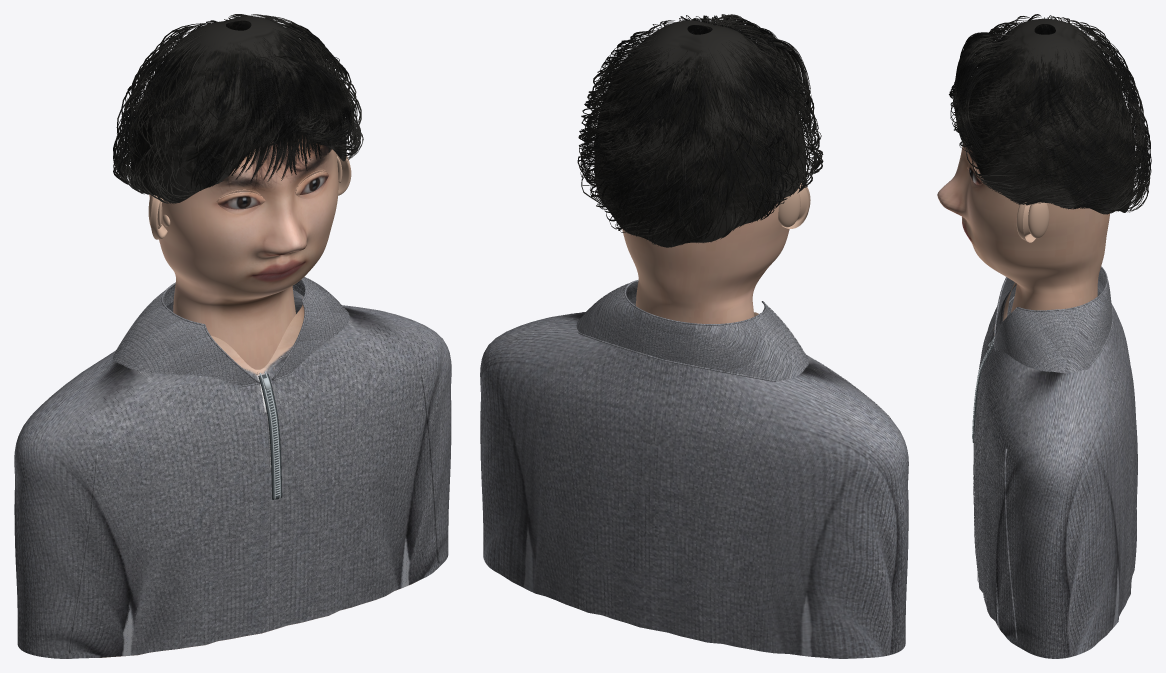
Rendered from avatar.glb.
3 renders of one model, left to right at view 1: azimuth 30°, elevation 25°; view 2: azimuth 150°, elevation 25°; view 3: azimuth 270°, elevation 25°, orthographic. The views are drawn at different scales.
Parts seen in each view (by area): view 1: Batch | surface 04, Batch | surface 00, Batch | surface 10, Batch | surface 09, Batch | surface 14, Batch | surface 13, Batch | surface 06, Batch | surface 05, Batch | surface 12, Batch | surface 11, Batch | surface 01, Batch | surface 07 (+1 smaller); view 2: Batch | surface 04, Batch | surface 10, Batch | surface 00, Batch | surface 06, Batch | surface 14, Batch | surface 13, Batch | surface 12, Batch | surface 11, Batch | surface 01; view 3: Batch | surface 04, Batch | surface 10, Batch | surface 00, Batch | surface 14, Batch | surface 13, Batch | surface 06, Batch | surface 12, Batch | surface 11, Batch | surface 09, Batch | surface 05, Batch | surface 01.
Part boxes in pixels (x1,y1,x2,y2): Batch | surface 04: (14,290,451,658); Batch | surface 00: (149,135,338,369); Batch | surface 10: (113,15,363,203); Batch | surface 09: (69,324,436,654); Batch | surface 14: (113,15,360,203); Batch | surface 13: (114,14,361,203); Batch | surface 06: (113,277,350,387); Batch | surface 05: (63,324,439,654); Batch | surface 12: (113,14,360,203); Batch | surface 11: (113,14,362,202); Batch | surface 01: (148,154,351,239); Batch | surface 07: (258,373,282,499); Batch | surface 04: (480,297,908,658); Batch | surface 10: (580,14,821,247); Batch | surface 00: (622,203,789,323); Batch | surface 06: (576,280,809,381); Batch | surface 14: (577,14,823,246); Batch | surface 13: (579,14,819,243); Batch | surface 12: (579,14,823,246); Batch | surface 11: (581,14,821,247); Batch | surface 01: (778,183,810,228); Batch | surface 04: (974,280,1137,658); Batch | surface 10: (950,17,1149,214); Batch | surface 00: (937,138,1109,312); Batch | surface 14: (950,14,1150,213); Batch | surface 13: (954,16,1148,213); Batch | surface 06: (993,266,1113,373); Batch | surface 12: (949,15,1151,213); Batch | surface 11: (952,17,1151,212); Batch | surface 09: (973,306,1032,639); Batch | surface 05: (973,308,1032,641); Batch | surface 01: (1016,202,1049,242).
Bounding box in the file's own units: 2.27 × 2.93 × 1.06.
Materials: 19 (16 with a texture image).
